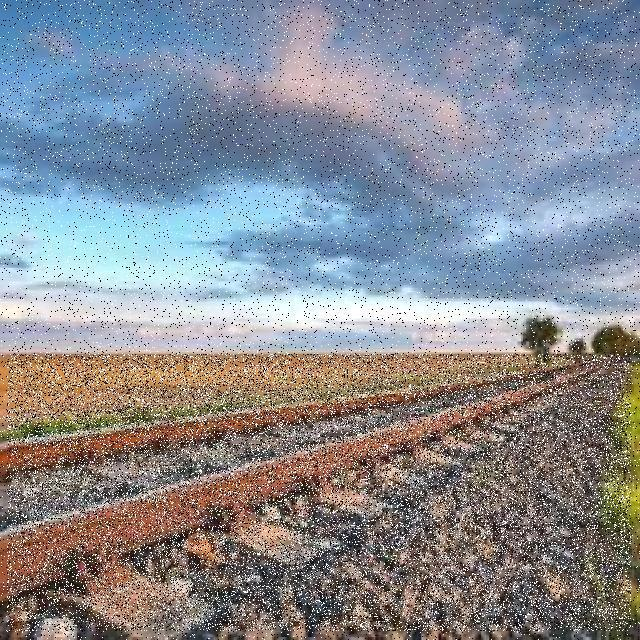rail: (7, 354, 631, 631)
